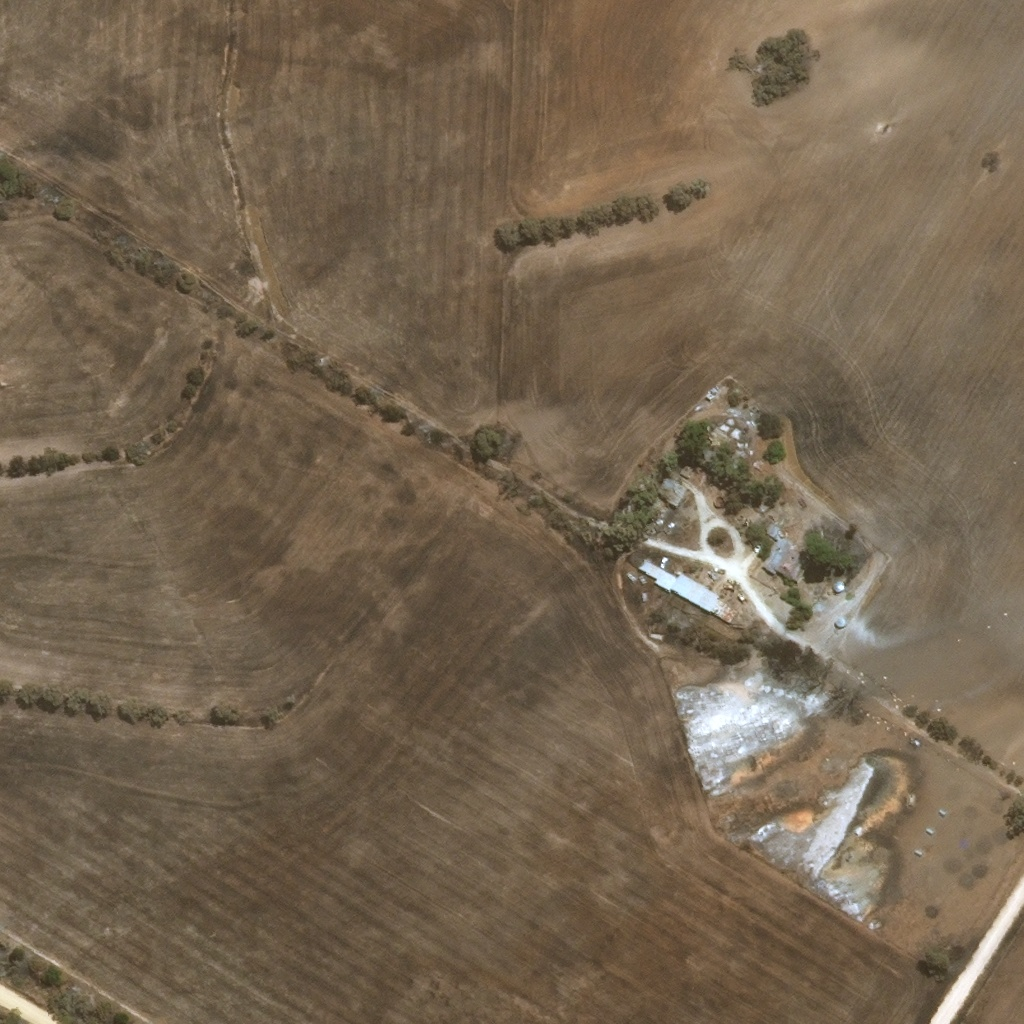0 no-damage: (637, 560, 736, 623), (761, 521, 808, 581), (834, 616, 845, 628), (639, 593, 646, 603)
1 minor-damage: (657, 477, 689, 509)
2 major-damage: (686, 424, 738, 480)
4 un-classified: (308, 451, 319, 462), (703, 391, 712, 404), (923, 827, 932, 835), (844, 852, 852, 861), (913, 849, 921, 857), (853, 825, 860, 834), (932, 812, 939, 819)
